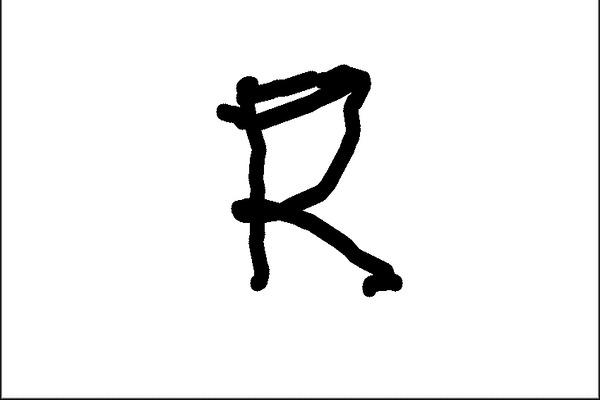R: (208, 47, 409, 300)
